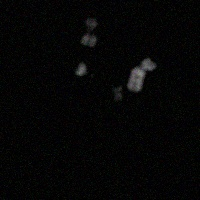chromosome: (127, 59, 156, 91), (79, 16, 96, 45), (73, 61, 88, 79)
